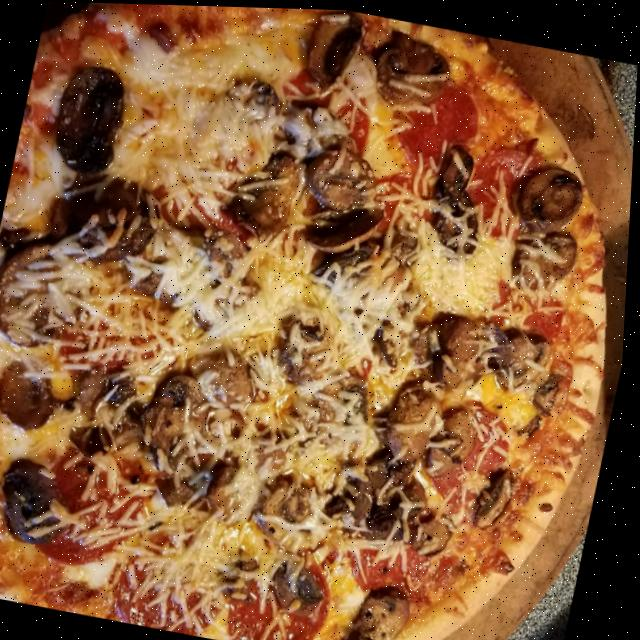mushrooms: (105, 363, 268, 517), (47, 168, 167, 271), (48, 60, 133, 179), (367, 26, 455, 111), (0, 456, 77, 548), (410, 307, 493, 392), (301, 140, 385, 217), (0, 231, 56, 346), (227, 157, 301, 243), (304, 192, 388, 259), (515, 159, 589, 234), (510, 220, 582, 294), (0, 359, 68, 434), (278, 310, 343, 388), (492, 323, 558, 394), (428, 402, 486, 480), (350, 578, 419, 640), (301, 32, 358, 99), (254, 468, 302, 542), (477, 462, 521, 529), (526, 367, 566, 436), (423, 509, 463, 556)
pizza: (0, 0, 640, 640)
